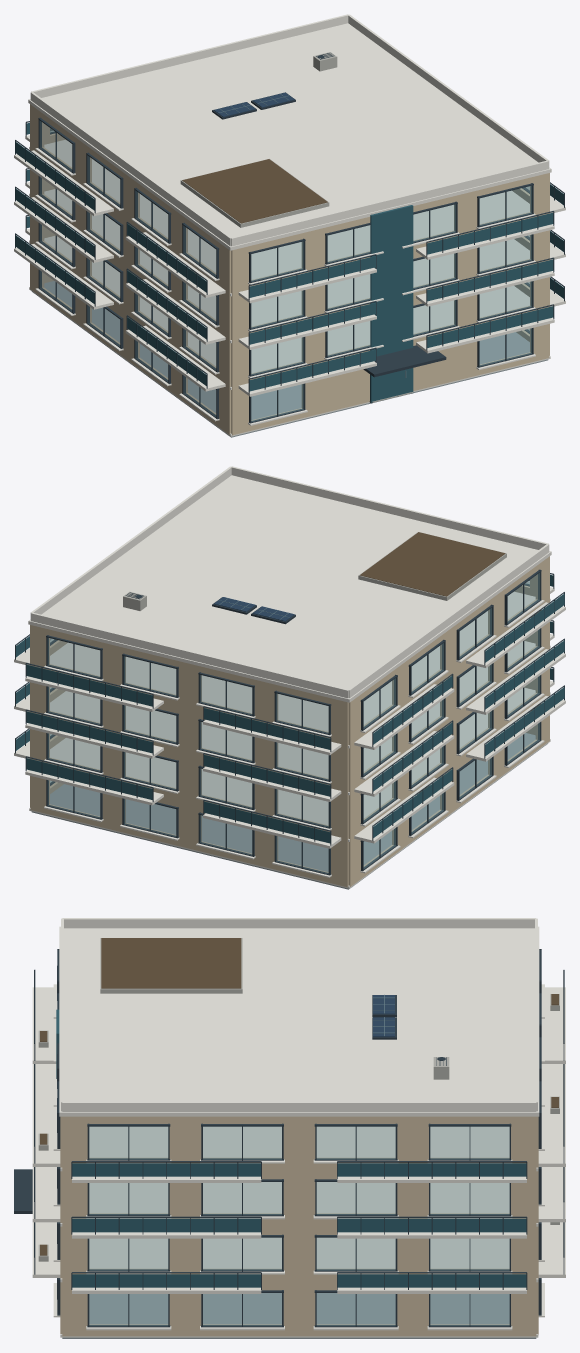
The model's file is Apartment_4.fbx.
3 renders of one model, top to bottom at view 1: azimuth 30°, elevation 25°; view 2: azimuth 150°, elevation 25°; view 3: azimuth 270°, elevation 25°, orthographic. The views are drawn at different scales.
Parts seen in each view (by area): view 1: Apartment_4.010; view 2: Apartment_4.010; view 3: Apartment_4.010.
Part boxes in pixels (x1,y1,x2,y2): Apartment_4.010: (14,14,565,437); Apartment_4.010: (14,466,565,889); Apartment_4.010: (14,918,565,1338).
Size of the model in its own units: 25 by 13.47 by 27.95.
